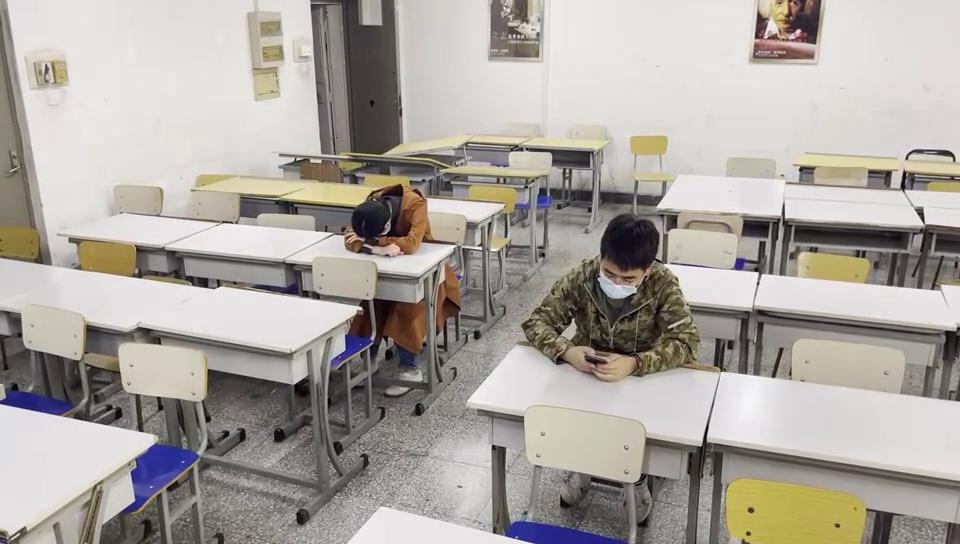phone: (522, 223, 702, 382)
sleep: (345, 184, 426, 251)
